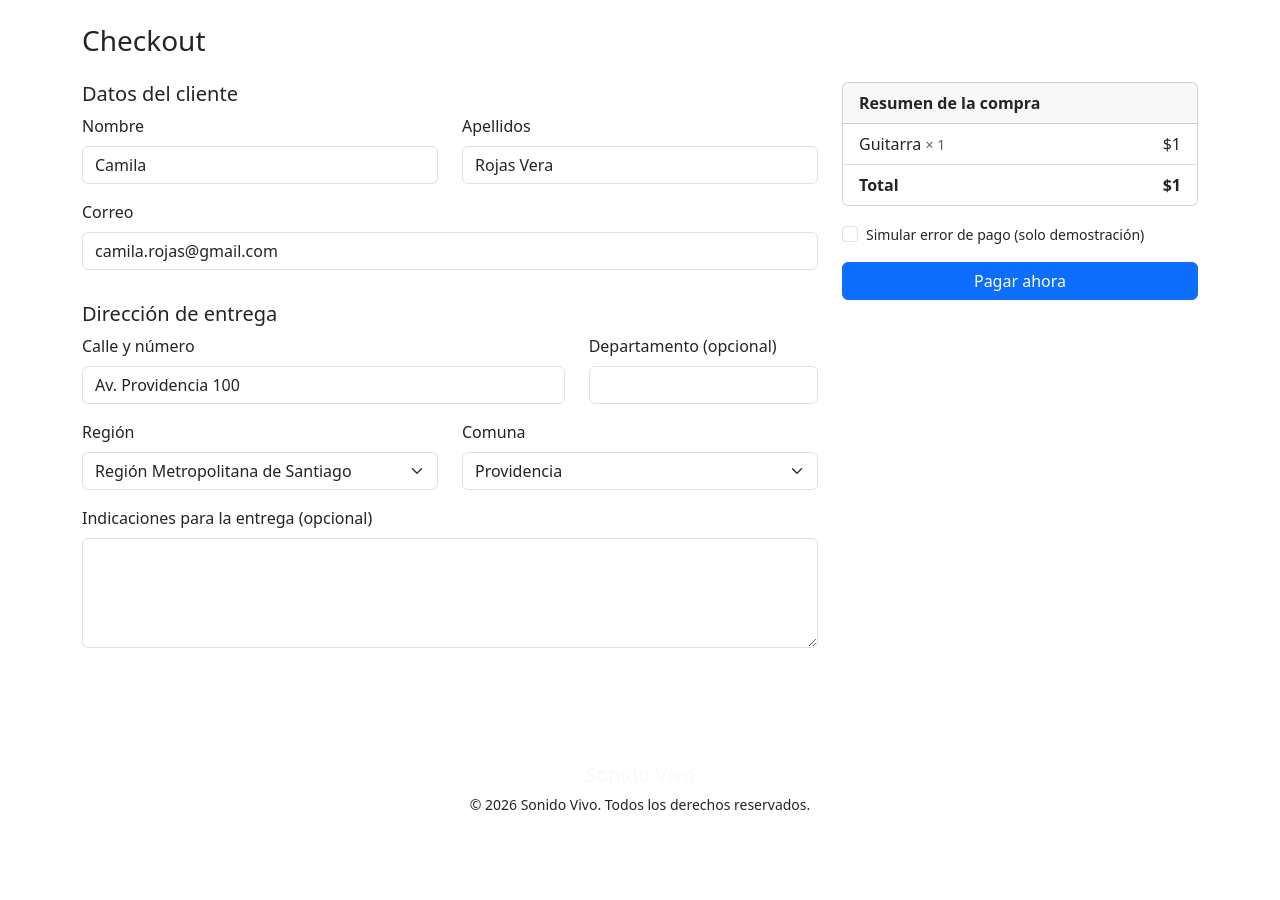
Test: Casos borde › si el servidor está caído al pagar se informa sin perder el carrito
Click the button "Pagar ahora" at (1020,281), box [842,262,1198,300]
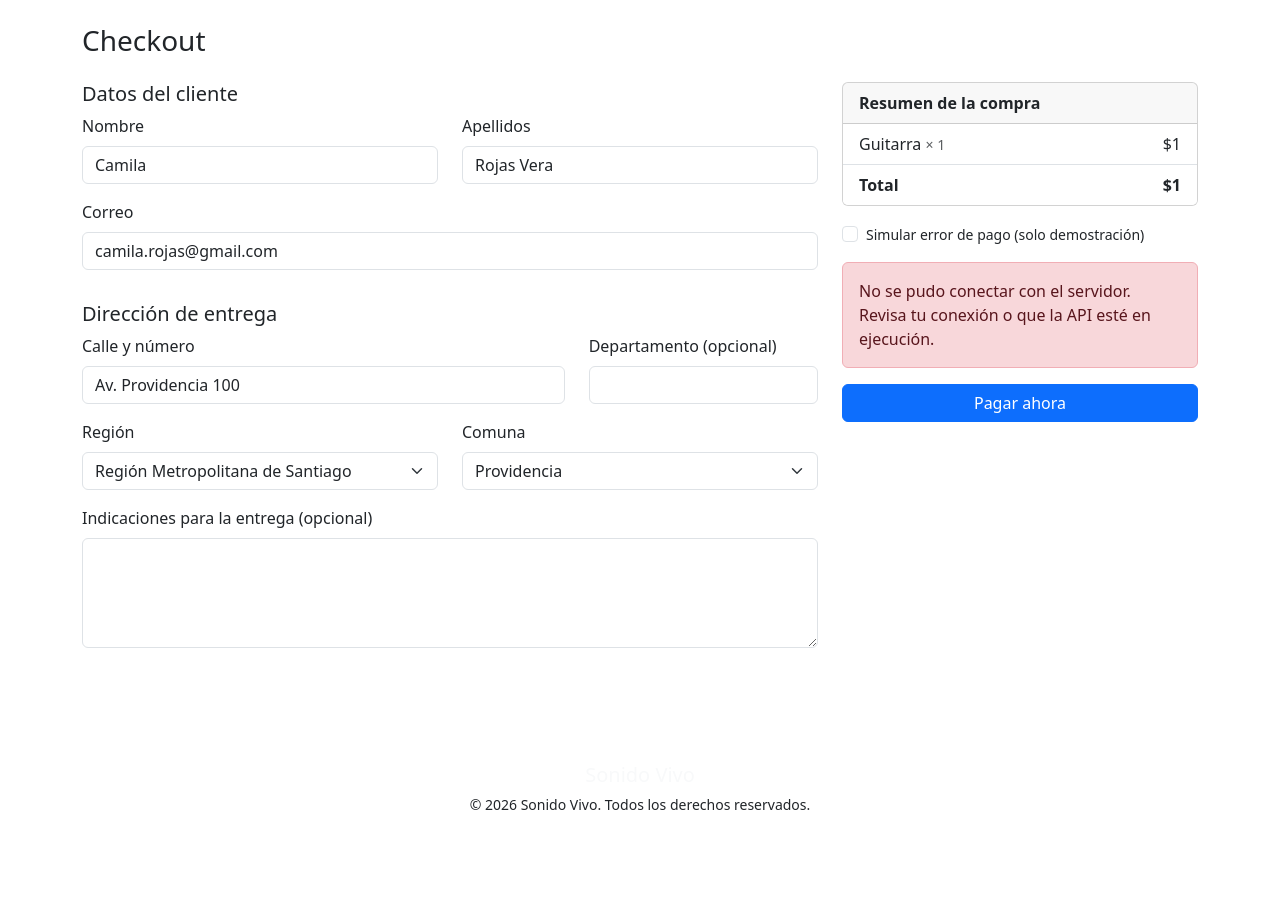
Expected: the text "No se pudo conectar con el servidor" is shown, [859,280,1151,350]
